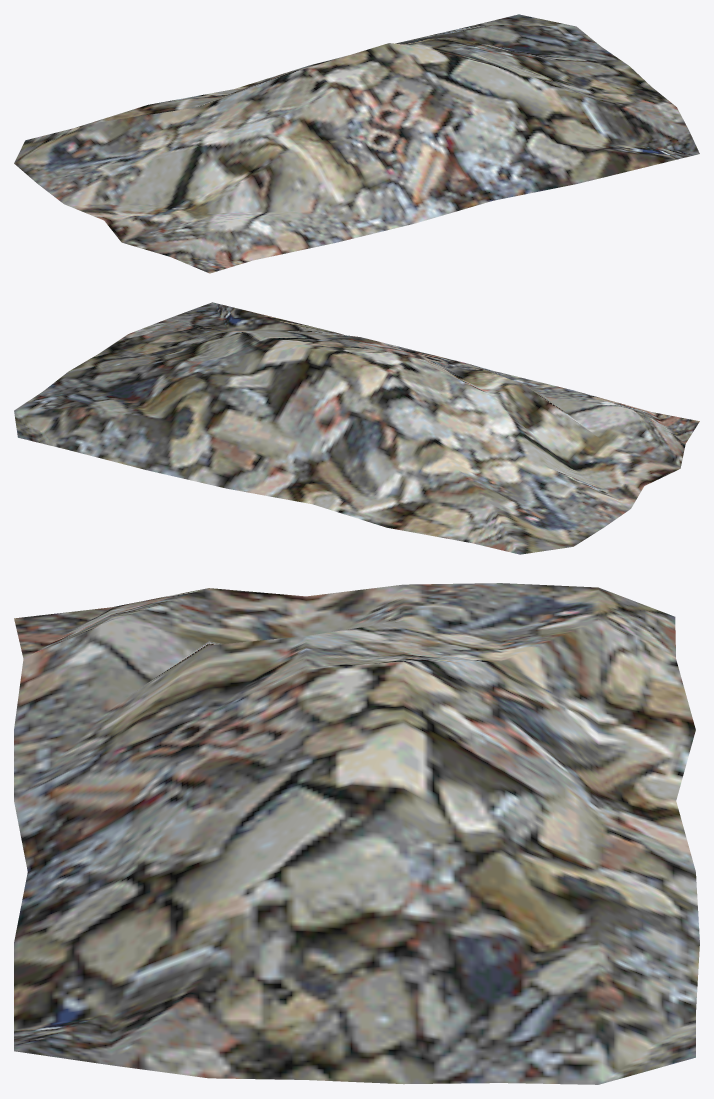
Rendered from Rubbish3_SM.fbx.
3 renders of one model, top to bottom at view 1: azimuth 30°, elevation 25°; view 2: azimuth 150°, elevation 25°; view 3: azimuth 270°, elevation 25°, orthographic. The views are drawn at different scales.
Parts seen in each view (by area): view 1: Plane005; view 2: Plane005; view 3: Plane005.
Part boxes in pixels (x1,y1,x2,y2): Plane005: (14, 14, 699, 273); Plane005: (14, 302, 699, 554); Plane005: (14, 583, 699, 1084).
Bounding box in the file's own units: 281 × 38.69 × 163.
